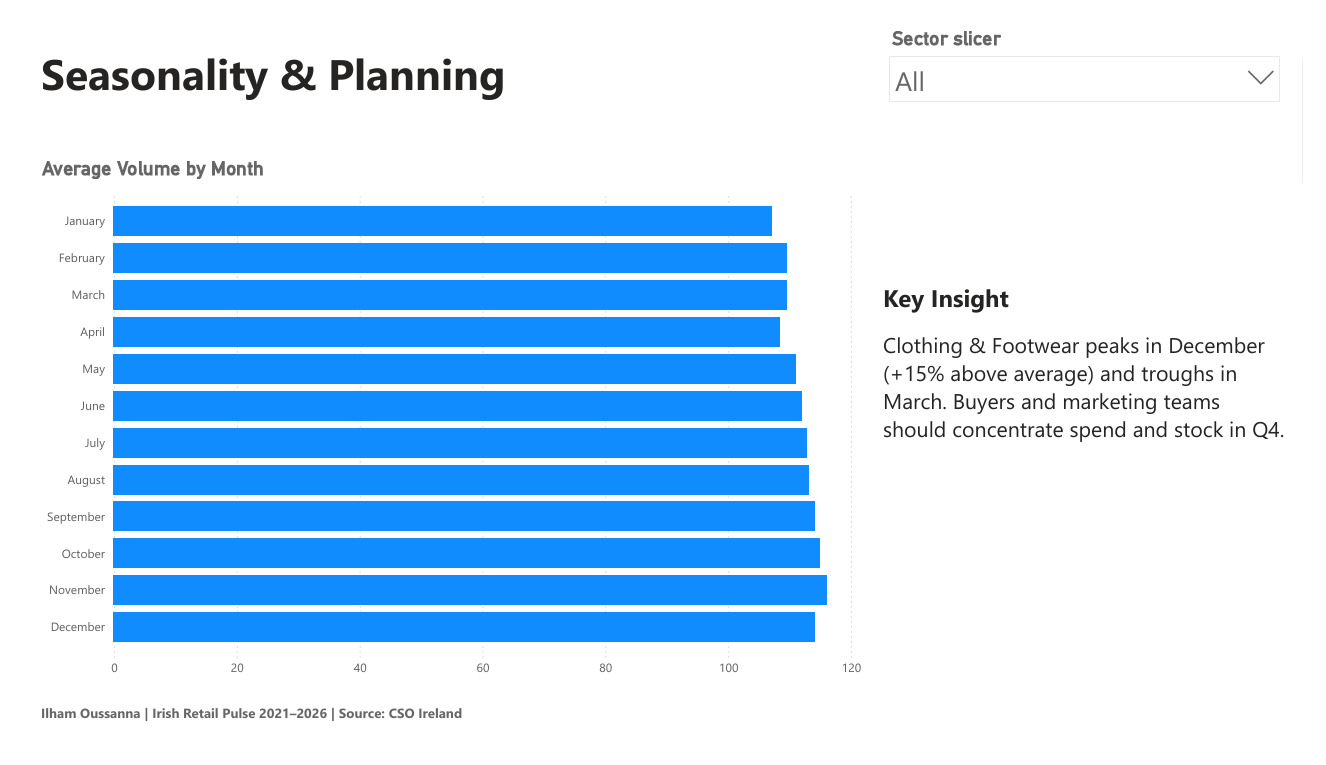

The page's visual inventory and layout, read from the dashboard file:
{"tool":"powerbi","page":{"name":"Seasonality & Planning","canvas":[1280,720],"ordinal":2},"visuals":[{"type":"textbox","box":[13.4,0,830,122.5],"z":0},{"type":"slicer","fields":{"Values":["rsi_clean.sector"]},"box":[855.7,0,410.9,122.5],"z":1000},{"type":"clusteredBarChart","title":"Average Volume by Month","fields":{"Y":["Avg(rsi_clean.volume_index)"],"Category":["rsi_clean.Month Name"]},"box":[13.6,135.4,829.5,528.2],"z":2000},{"type":"textbox","box":[855.5,135.4,411.3,528.2],"z":3000},{"type":"textbox","box":[13.4,676.6,1253.2,27.8],"z":4000}]}

Visuals, with their boxes in screenshot pixels (x1, y1, x2, y2), scaled from the page's 1280x720 canvas onto the 1326x765 screenshot:
textbox: [left=14, top=0, right=874, bottom=130]
slicer - rsi_clean.sector: [left=886, top=0, right=1312, bottom=130]
"Average Volume by Month" clusteredBarChart: [left=14, top=144, right=873, bottom=705]
textbox: [left=886, top=144, right=1312, bottom=705]
textbox: [left=14, top=719, right=1312, bottom=748]
